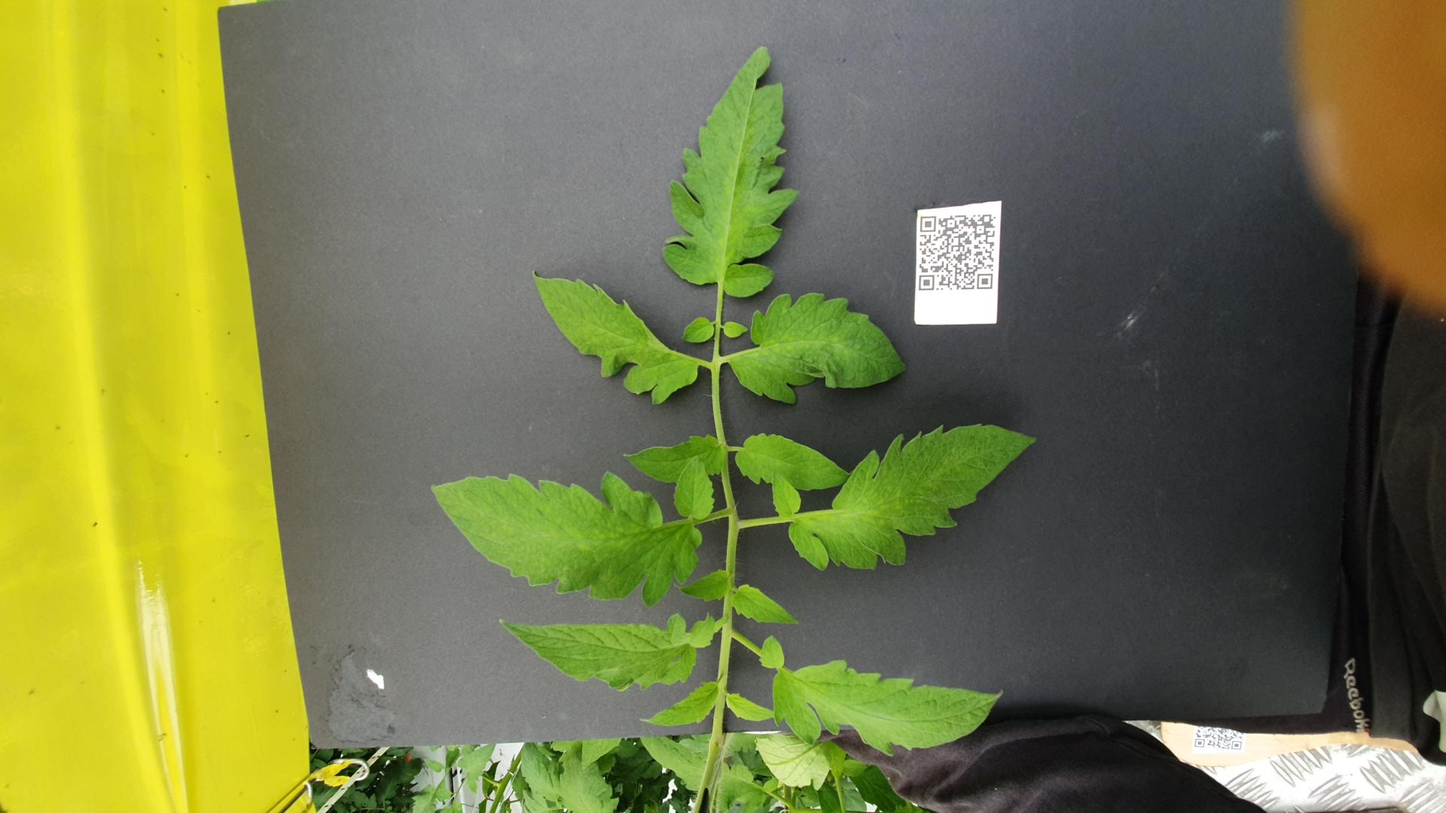Healthy: (427, 433, 695, 583), (370, 241, 609, 395), (918, 372, 1367, 449), (725, 298, 968, 394), (112, 433, 275, 569), (731, 411, 925, 511), (214, 281, 355, 402), (573, 413, 676, 477), (589, 349, 674, 408), (155, 358, 240, 404), (521, 377, 637, 403), (335, 411, 408, 450), (374, 381, 437, 410), (163, 408, 214, 435)
